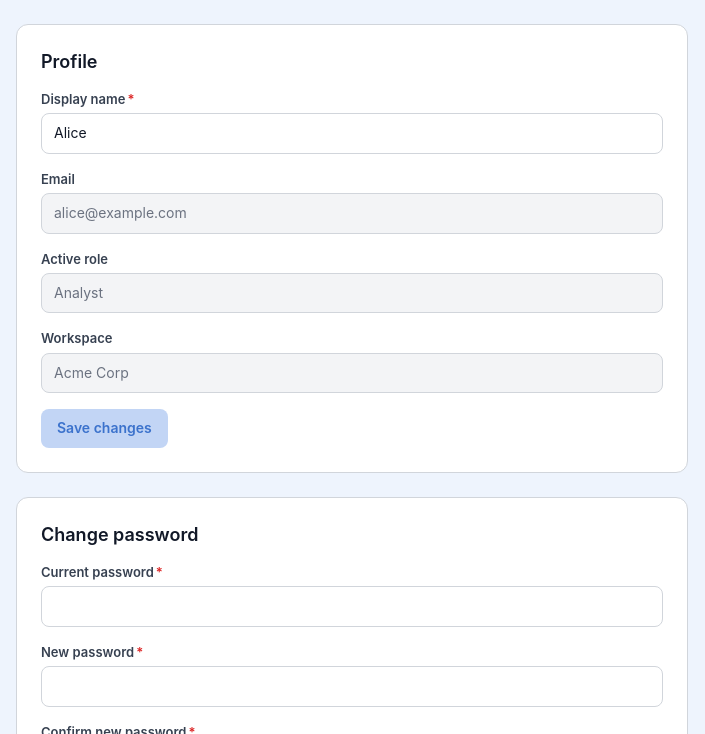
Test: AccountPage password section › clears mismatch error when user edits new password field
The image size is (705, 734).
Check: the heading "Change password" is shown, box [41,524,198,545]
Step 1. Type "OldPass1!" into the password field labelled "Current password*" → (352, 607), box [41,586,663,627]
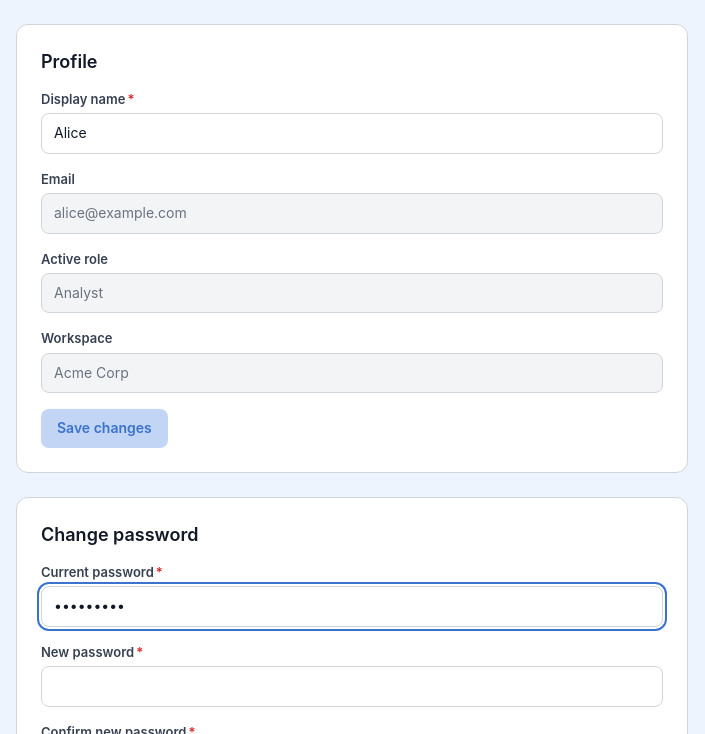
Step 2. Type "NewPass1!" into the password field labelled "New password*" → (352, 686), box [41,666,663,707]
(page scrolled)
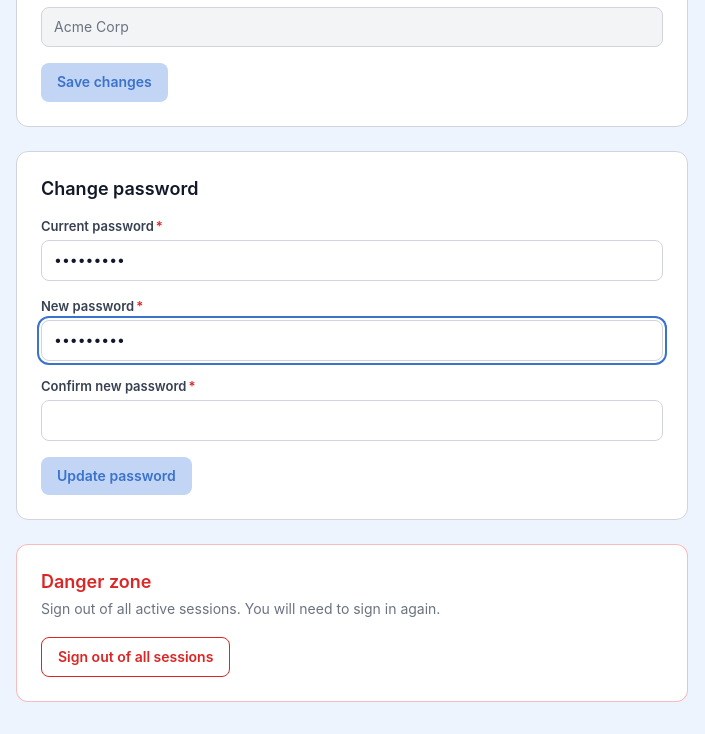
Step 3. Type "Different1!" into the password field labelled "Confirm new password*" → (352, 420), box [41,400,663,441]
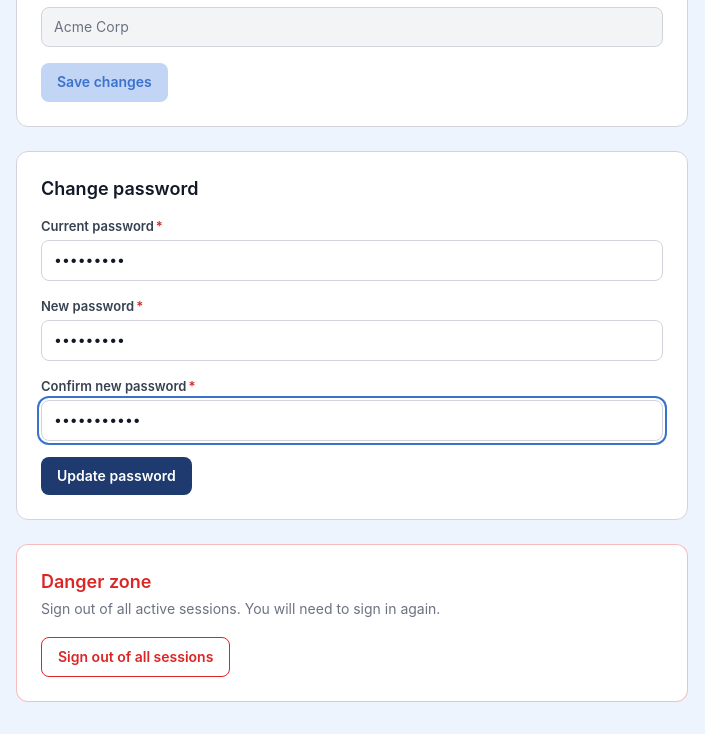
Step 4. Click the button "Update password" → click(116, 476), box [41,457,192,495]
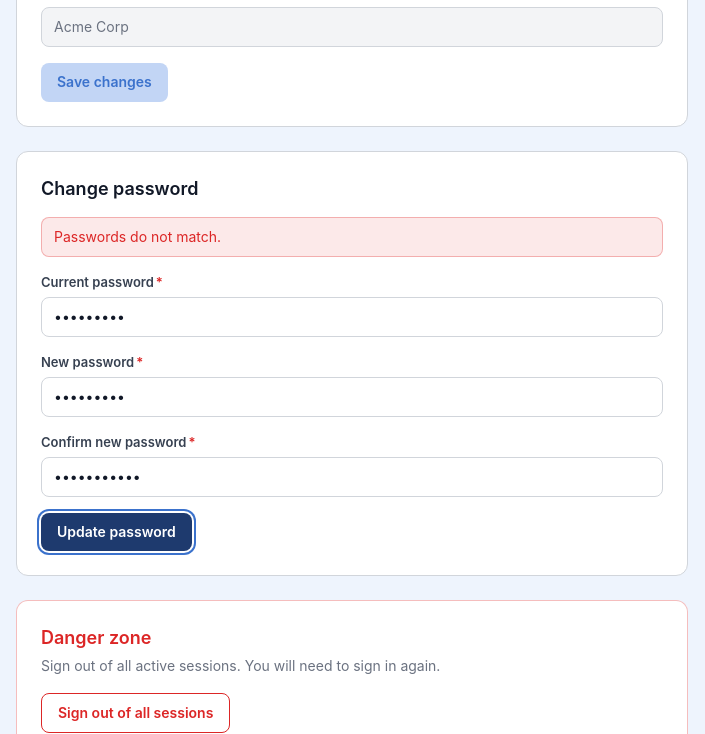
Check: the text "Passwords do not match." is shown, box [41,217,663,257]
Editing either new-password field should clear the mismatch error
Step 5. Type "X" into the password field labelled "New password*" → (352, 397), box [41,377,663,417]
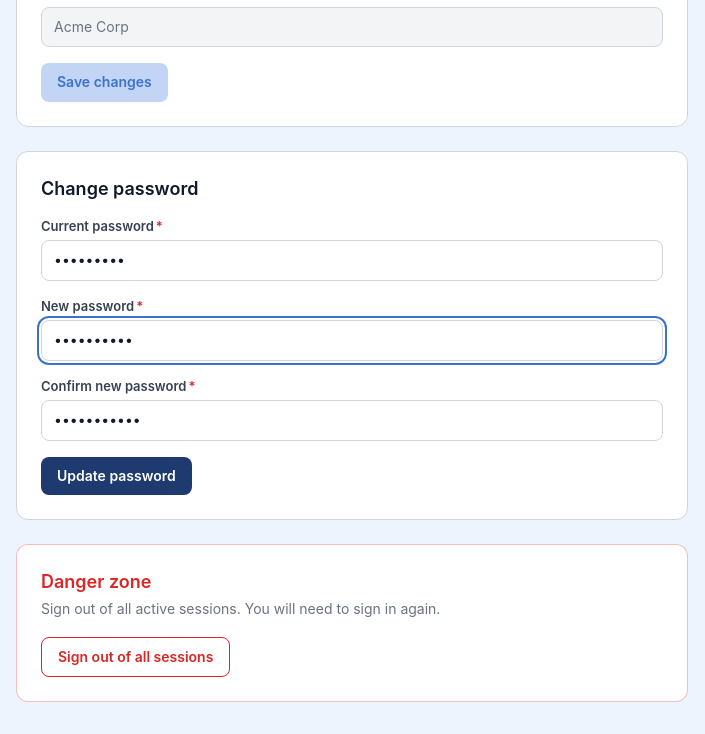
Check: the text "Passwords do not match" is gone
